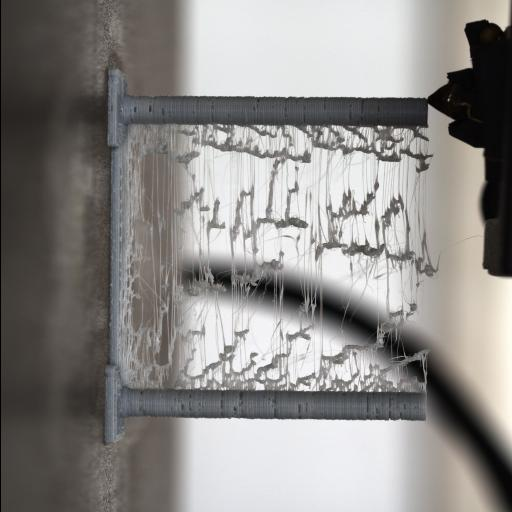stringing: (126, 152, 440, 397)
